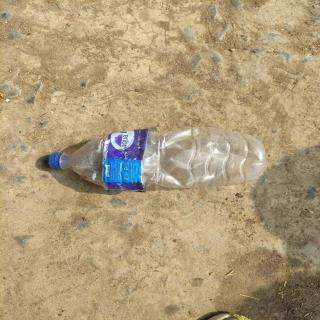Plastic-bottle: (44, 125, 272, 195)
